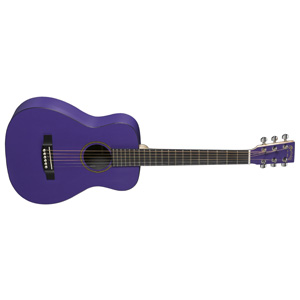guitar: (4, 96, 296, 206)
